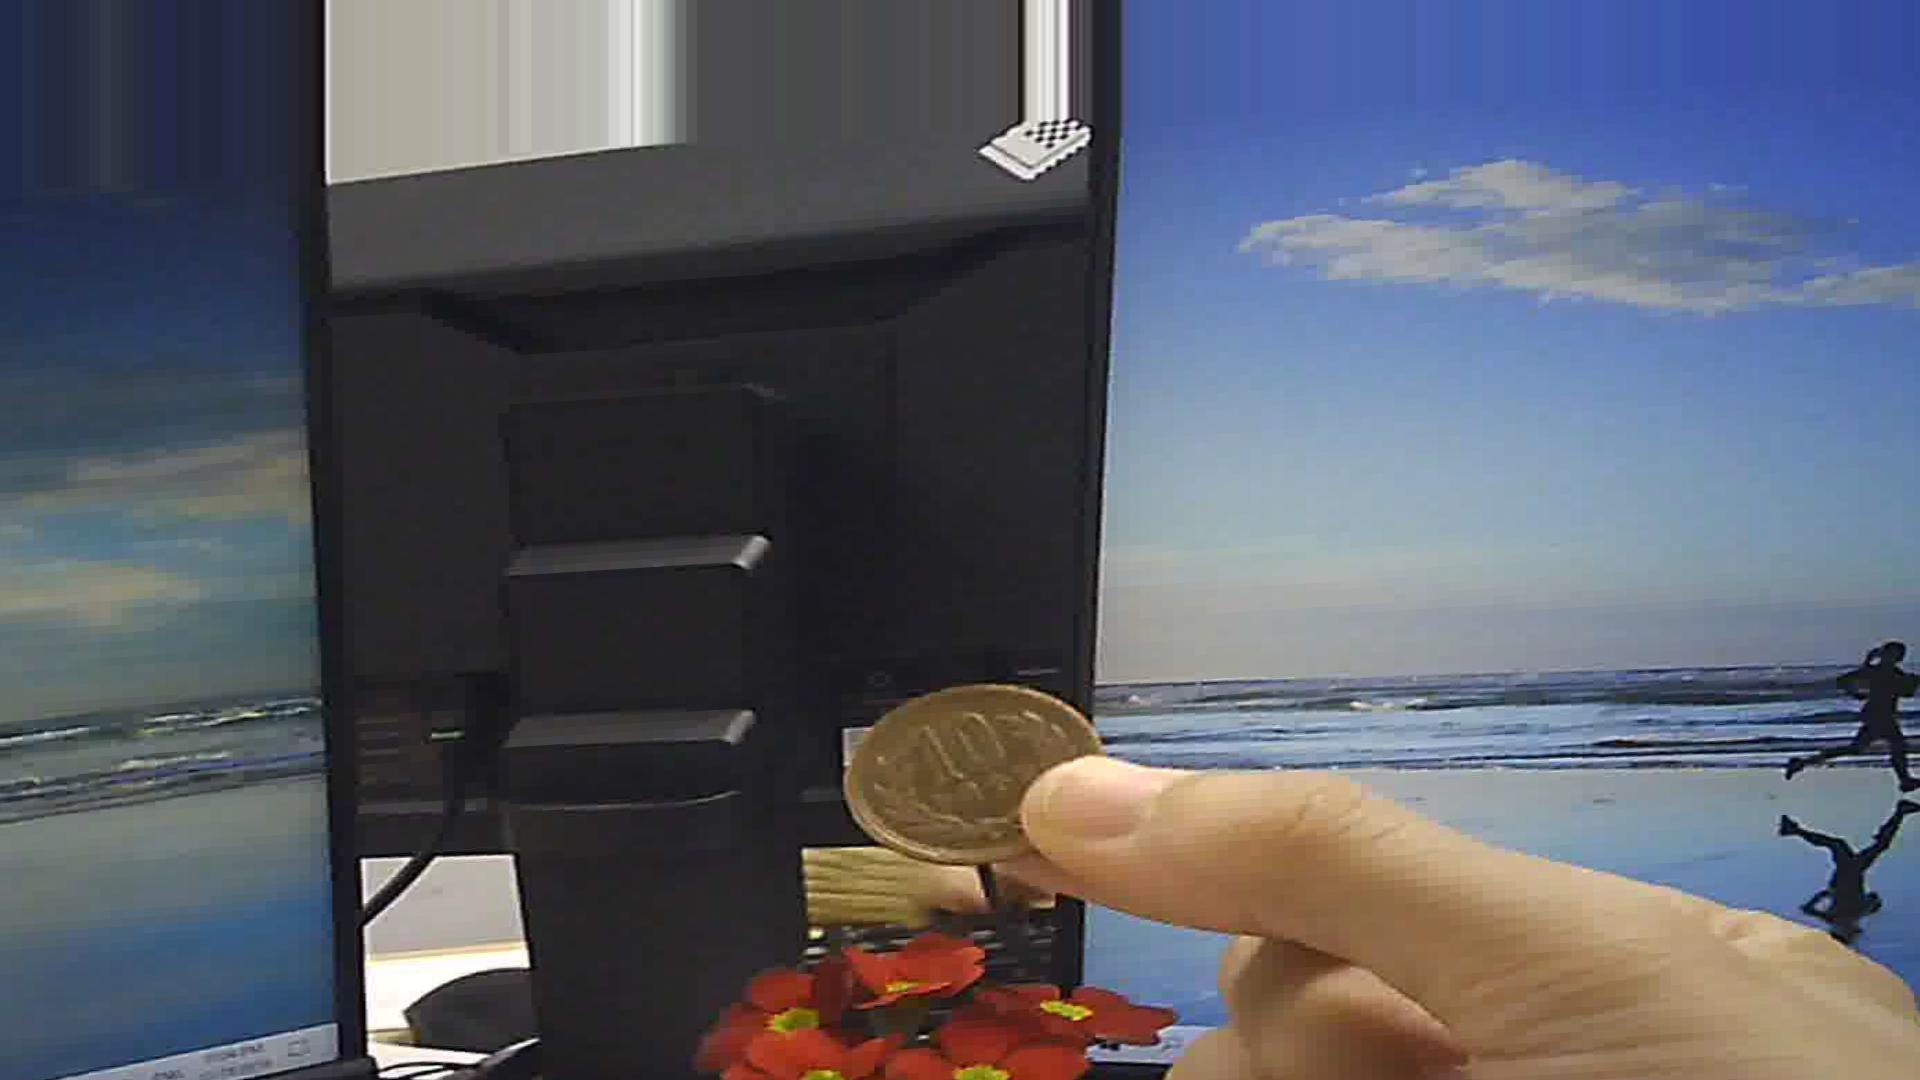10 Yen: (843, 676, 1096, 855)
